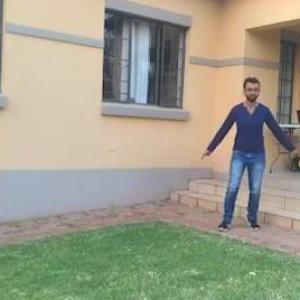land: (195, 82, 292, 236)
